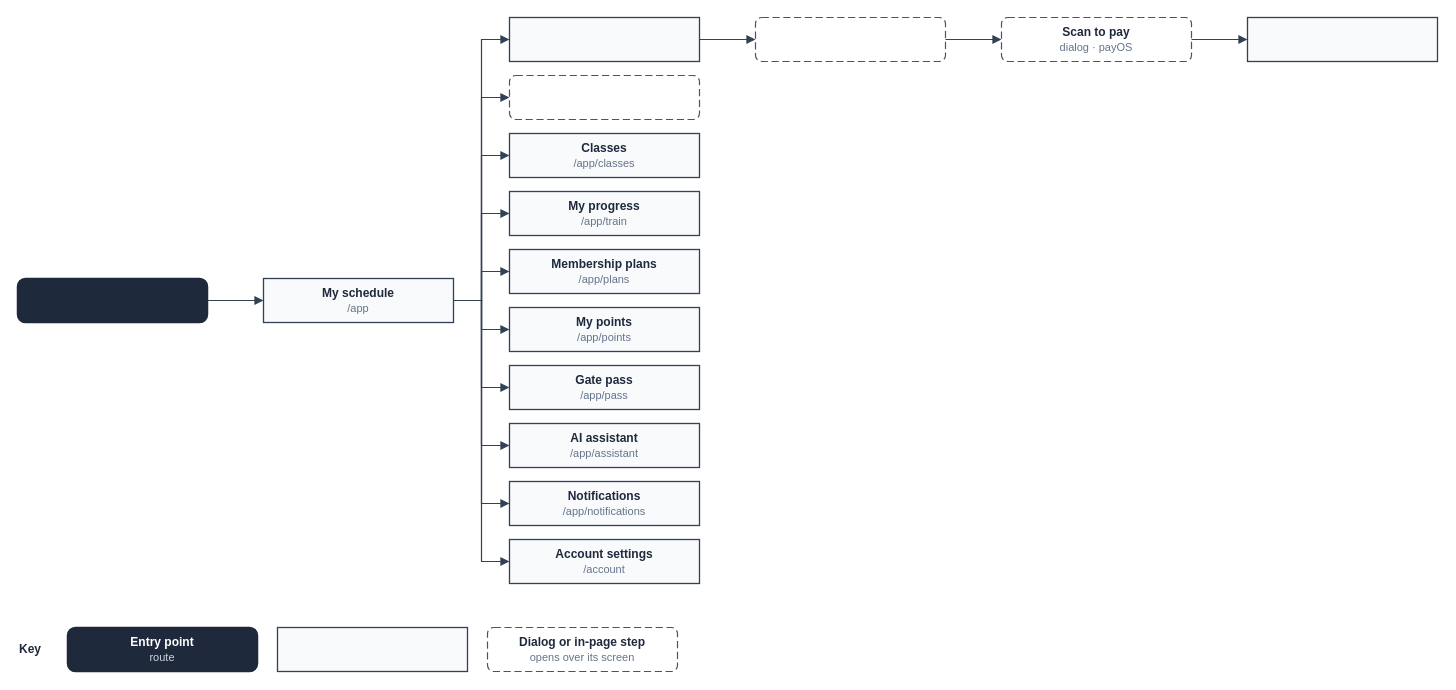
Some shapes in this 1456 by 690 pixel diagram are drawn without their labels. The centre of each missing label's shape, as x and y in pixels:
"Book a court /app/book" goes at [604,39].
"Claim waitlist seat in-page step" goes at [604,97].
"Payment result /pay/return" goes at [1342,39].
"Screen route" goes at [372,649].
"Sign in /login" goes at [112,300].
"Slot hold in-page step · 5 minutes" goes at [850,39].
